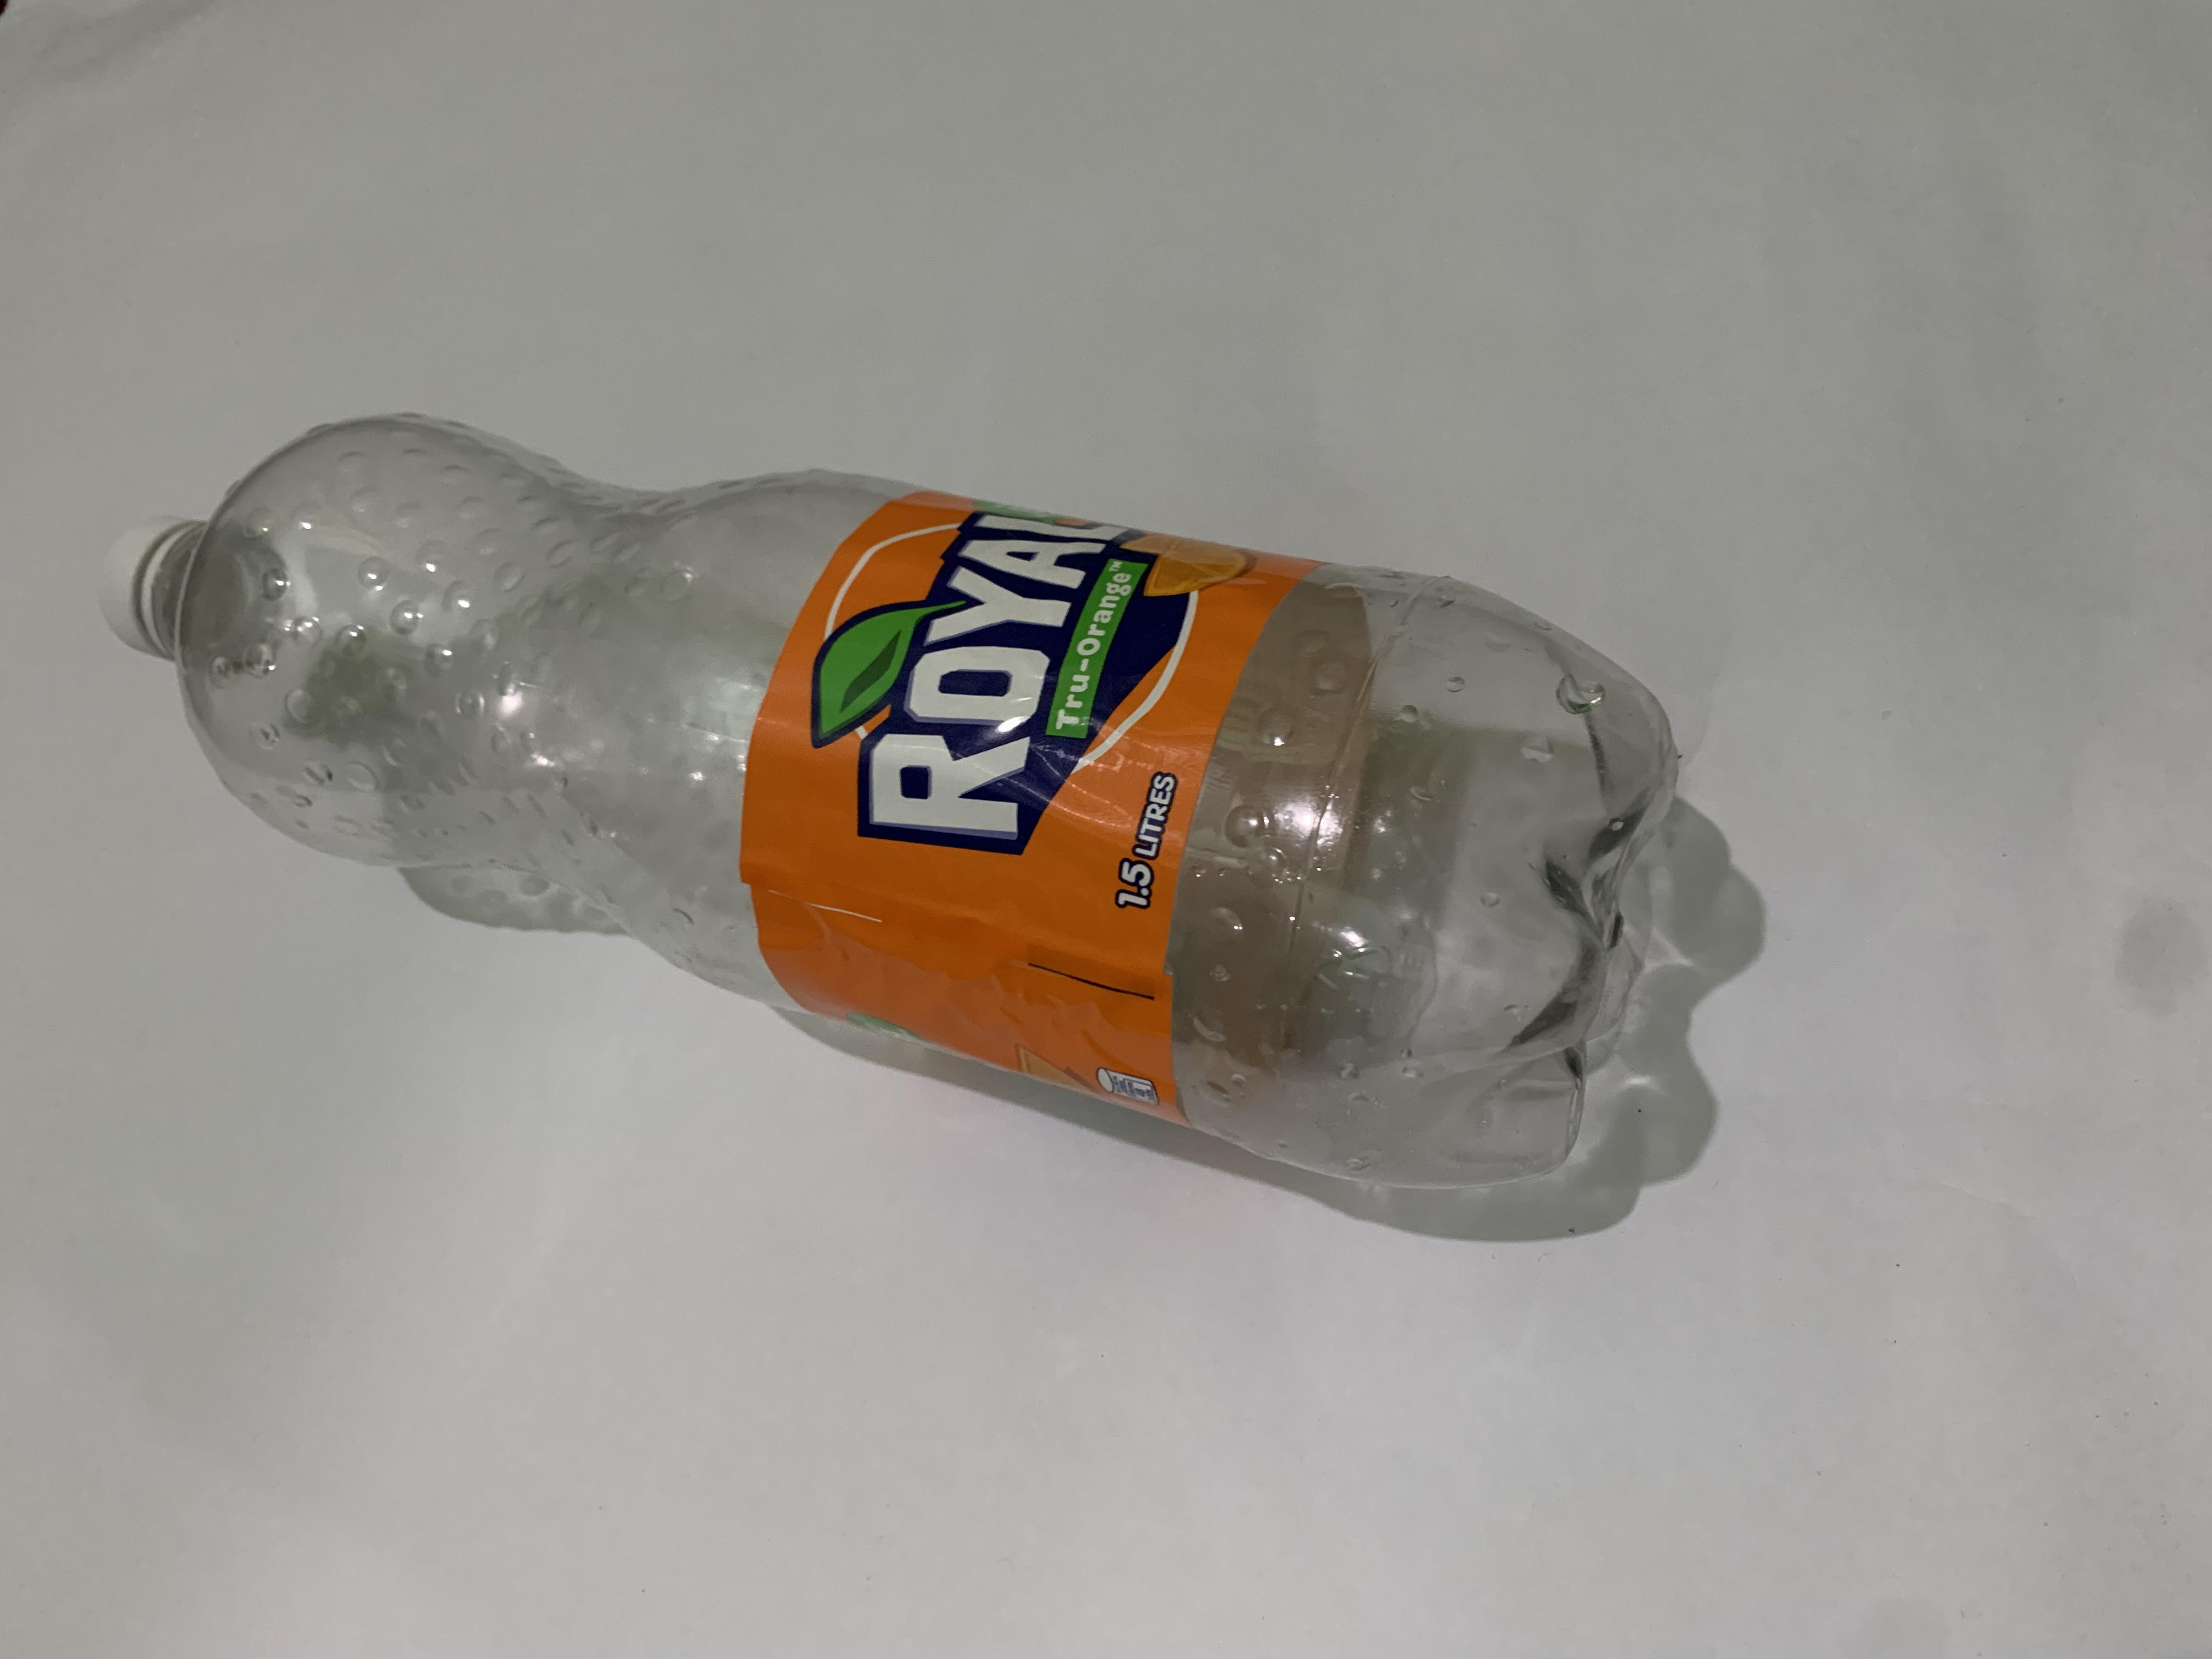bottle: (82, 401, 1688, 1208)
